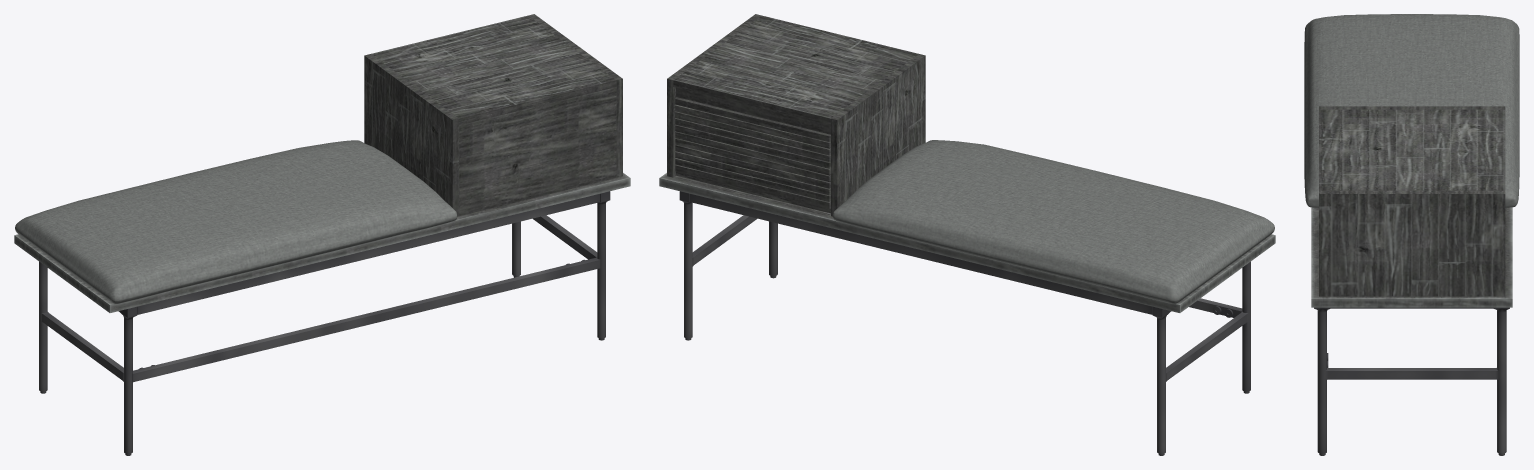
Rendered from abo_B07HSG7KTN.glb.
The picture shows the model from 3 angles, left to right: view 1: azimuth 30°, elevation 25°; view 2: azimuth 150°, elevation 25°; view 3: azimuth 270°, elevation 25°; orthographic projection. The views are drawn at different scales.
Visible parts, largest first — view 1: RootNode; view 2: RootNode; view 3: RootNode.
Boxes of the visible parts, bbox=[...] form: RootNode: bbox=[14, 14, 630, 455]; RootNode: bbox=[659, 14, 1275, 455]; RootNode: bbox=[1304, 14, 1519, 455].
Bounding box in the file's own units: 1.34 × 0.633 × 0.457.
Materials: 1 (1 with a texture image).
